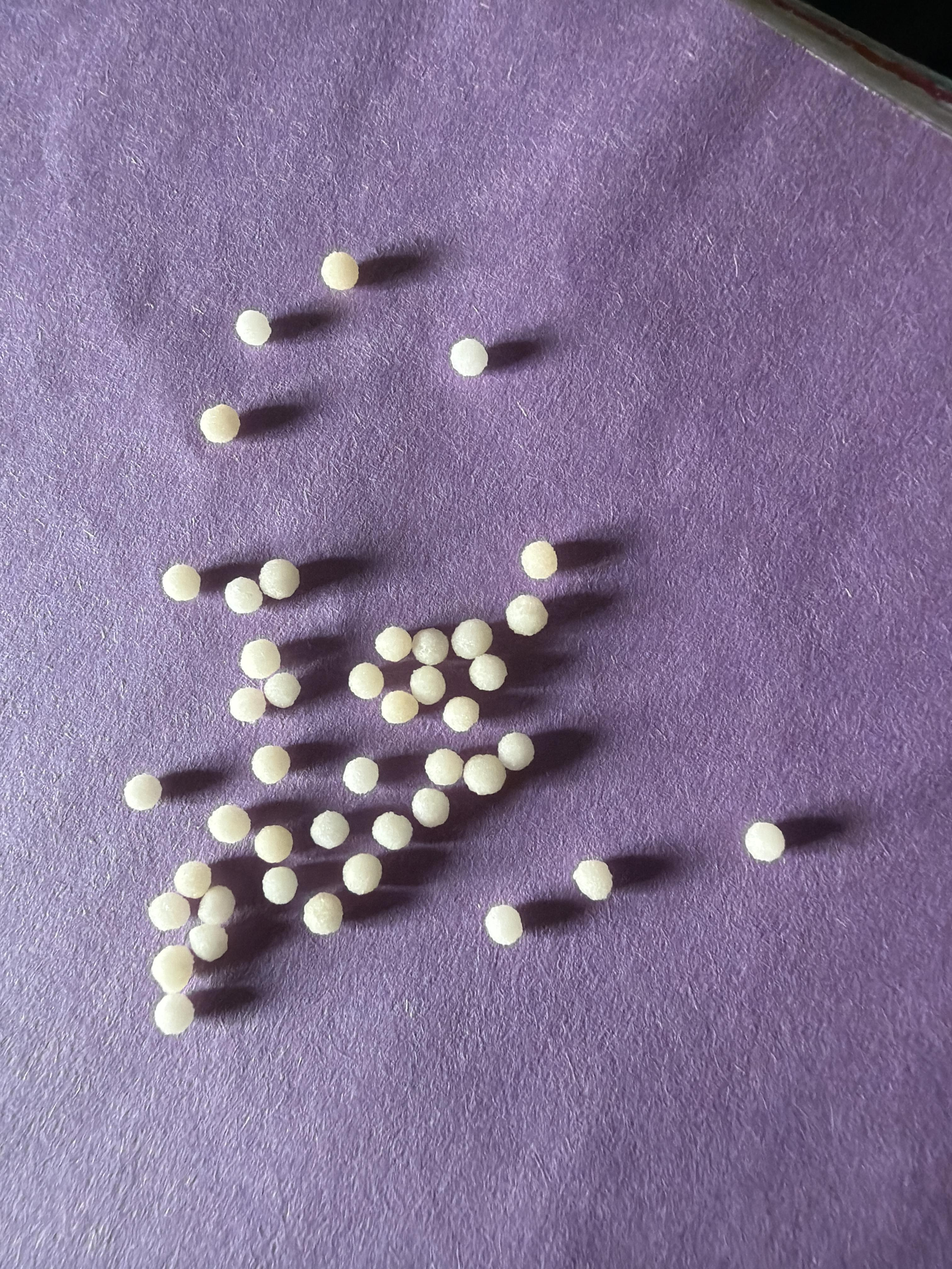pill: (152, 945, 193, 993), (463, 754, 506, 795), (207, 804, 251, 844), (258, 558, 300, 599), (506, 595, 548, 636), (303, 892, 343, 935), (147, 892, 190, 931), (451, 619, 492, 659), (342, 853, 382, 894), (154, 994, 194, 1035), (745, 821, 785, 862), (240, 639, 280, 680), (199, 403, 240, 443), (484, 904, 523, 946), (251, 745, 290, 785), (572, 861, 612, 900), (371, 812, 412, 850), (320, 251, 359, 290), (450, 338, 488, 377), (411, 788, 449, 827), (497, 732, 535, 771), (310, 811, 349, 849), (198, 885, 235, 925), (521, 540, 558, 580), (469, 653, 507, 691), (254, 825, 292, 863), (425, 748, 463, 786), (173, 861, 211, 899), (123, 773, 161, 811), (161, 564, 200, 601), (410, 665, 446, 705), (224, 577, 262, 614), (342, 757, 379, 795), (411, 628, 449, 665), (189, 925, 227, 962), (262, 866, 298, 905), (264, 671, 300, 708), (442, 696, 479, 732), (229, 687, 266, 723), (375, 626, 412, 662), (348, 663, 384, 699), (235, 310, 271, 346), (381, 690, 418, 725)
